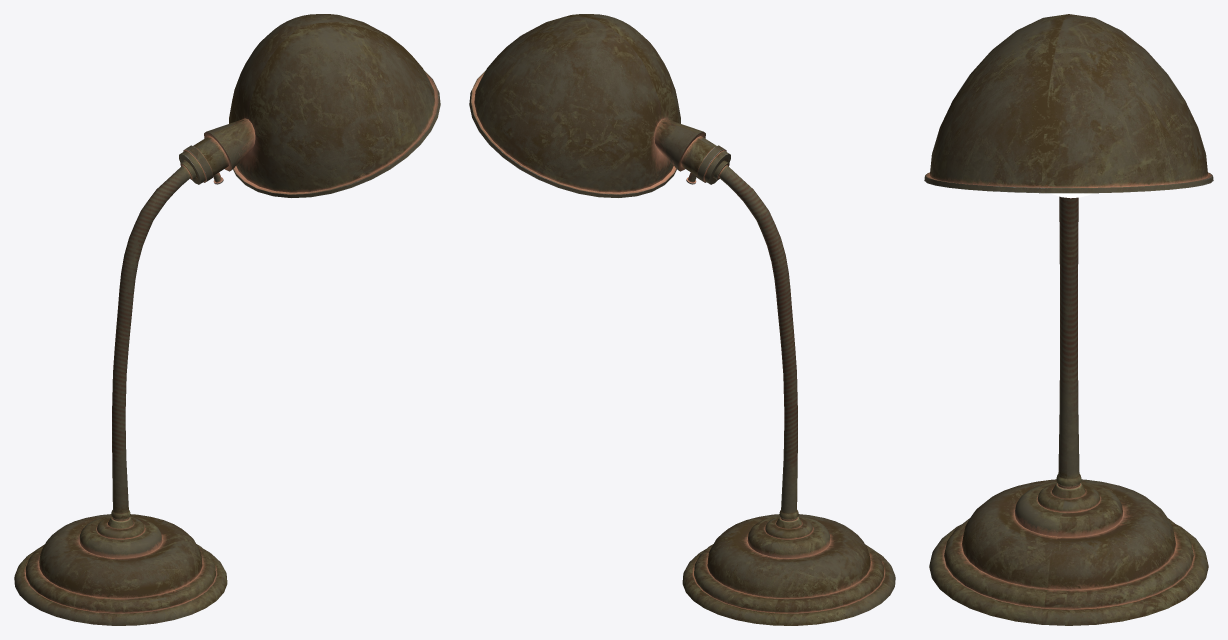
File: old_lamp.glb
3 renders of one model, left to right at view 1: azimuth 30°, elevation 25°; view 2: azimuth 150°, elevation 25°; view 3: azimuth 270°, elevation 25°, orthographic. The views are drawn at different scales.
Parts seen in each view (by area): view 1: SM_light, SM_base; view 2: SM_light, SM_base; view 3: SM_light, SM_base.
Boxes of the visible parts, <box> form: SM_light: <box>179,14,440,197</box>; SM_base: <box>14,160,227,625</box>; SM_light: <box>469,14,730,197</box>; SM_base: <box>682,160,895,625</box>; SM_light: <box>924,14,1213,193</box>; SM_base: <box>929,196,1208,625</box>.
Size of the model in its own units: 69.75 by 86.02 by 33.64.
Materials: 1 (1 with a texture image).
